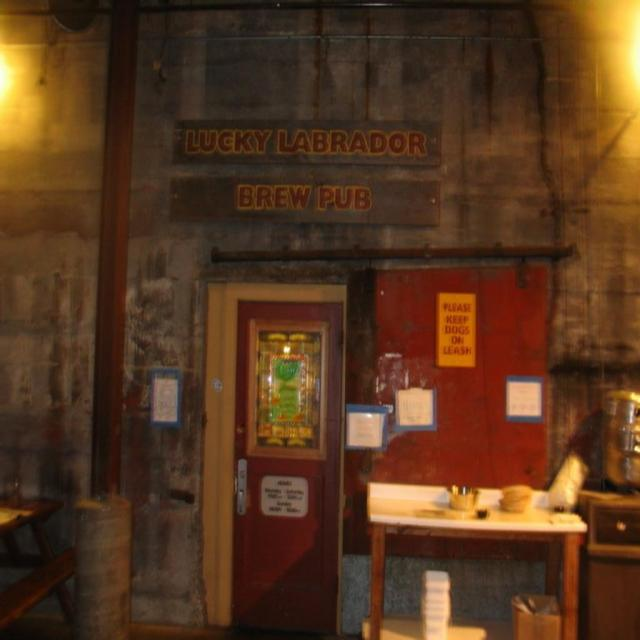table: (382, 476, 578, 629)
